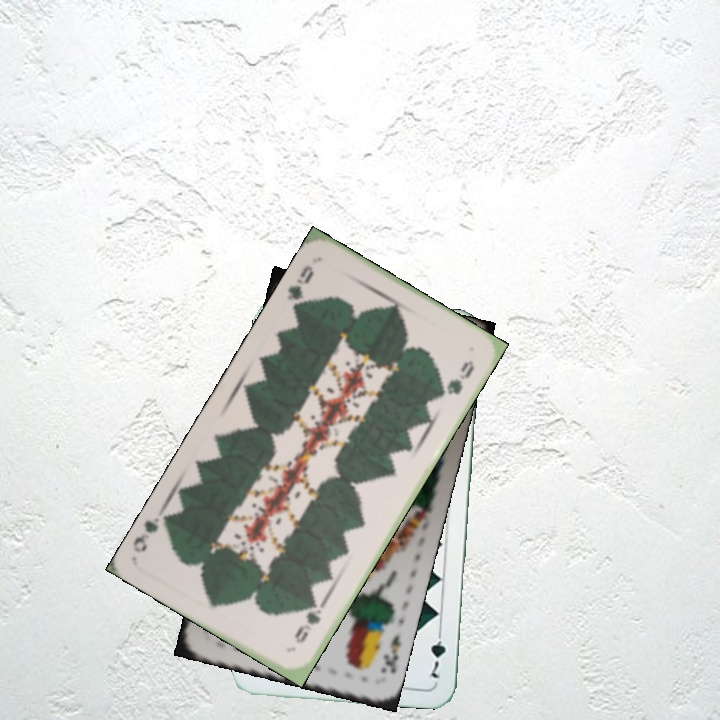EK: (376, 630, 404, 676)
G7: (426, 624, 448, 681)
G9: (283, 261, 317, 313), (291, 597, 327, 646)
